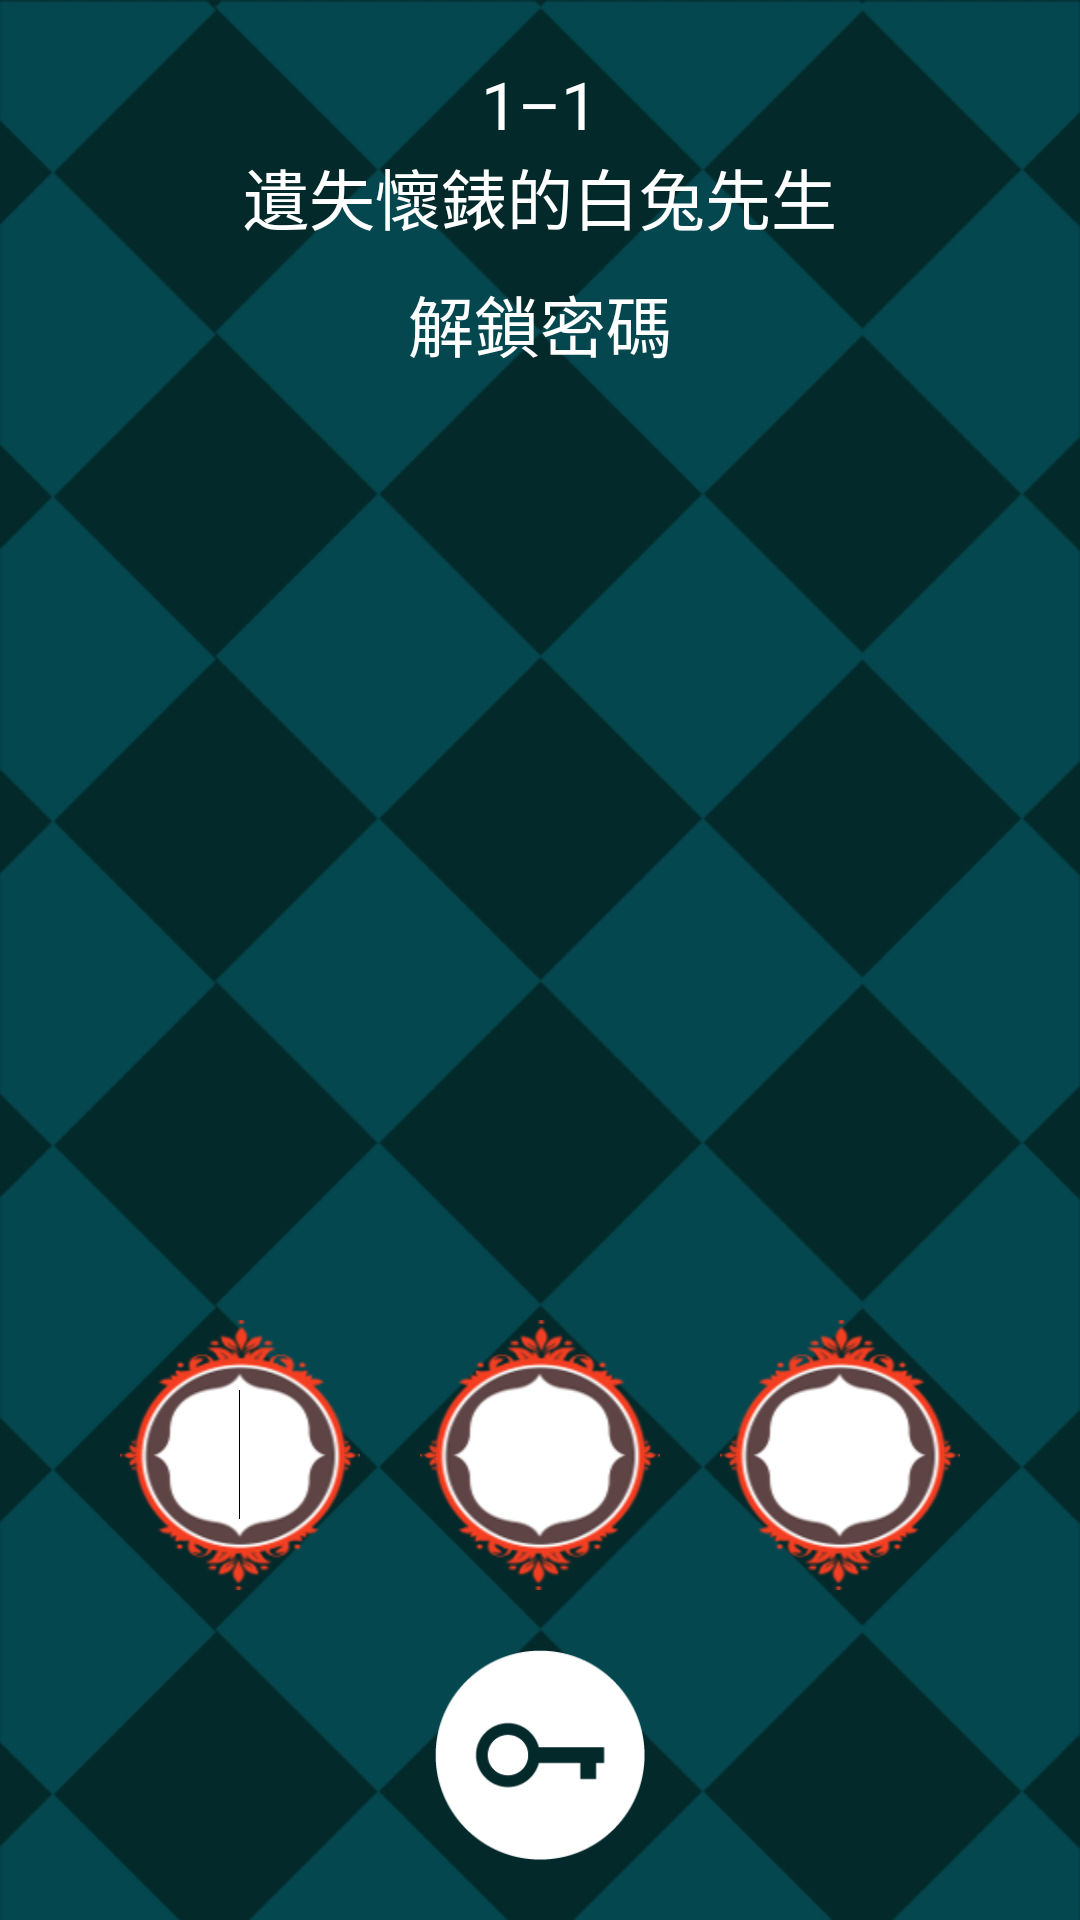

Where to tap for icons on this 1080×1920 app screen, as (x=x, y=y):
key: (x=540, y=1755)
